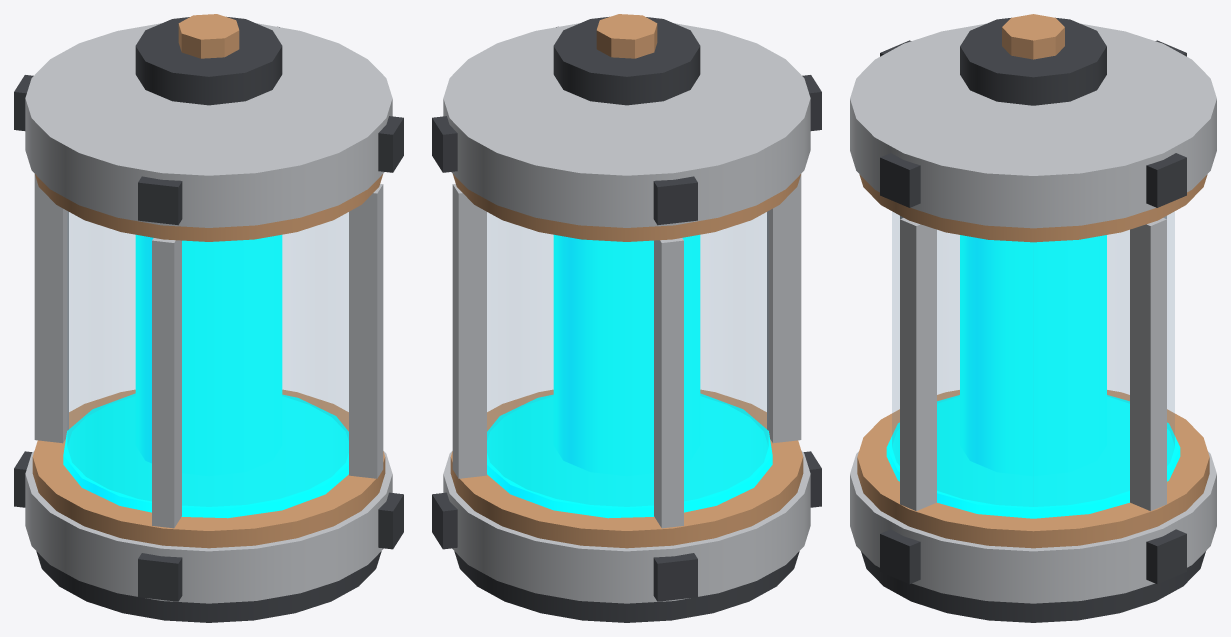
File: FV_PowerCore.fbx
The picture shows the model from 3 angles, left to right: view 1: azimuth 30°, elevation 25°; view 2: azimuth 150°, elevation 25°; view 3: azimuth 270°, elevation 25°; orthographic projection.
Parts seen in each view (by area): view 1: PowerCore; view 2: PowerCore; view 3: PowerCore.
Part boxes in pixels (x1,y1,x2,y2): PowerCore: [14, 14, 403, 622]; PowerCore: [432, 14, 821, 622]; PowerCore: [850, 14, 1216, 622].
Bounding box in the file's own units: 0.35 × 0.55 × 0.35.
